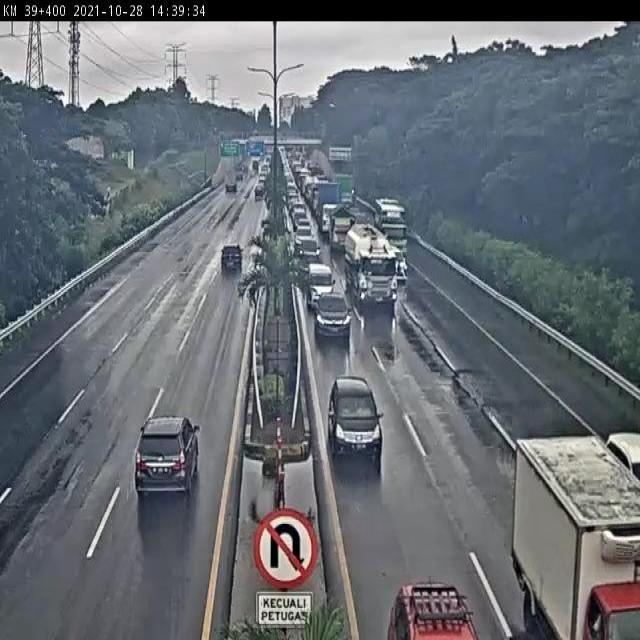big bus: (378, 196, 416, 248)
big truck: (343, 223, 395, 320)
car: (379, 578, 478, 640), (132, 416, 200, 504), (326, 376, 383, 464), (609, 416, 640, 484), (311, 296, 345, 353), (305, 260, 331, 305), (391, 250, 417, 290), (216, 245, 246, 275)
small truck: (509, 422, 640, 640)
